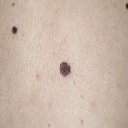Melanoma: (57, 60, 74, 78)
